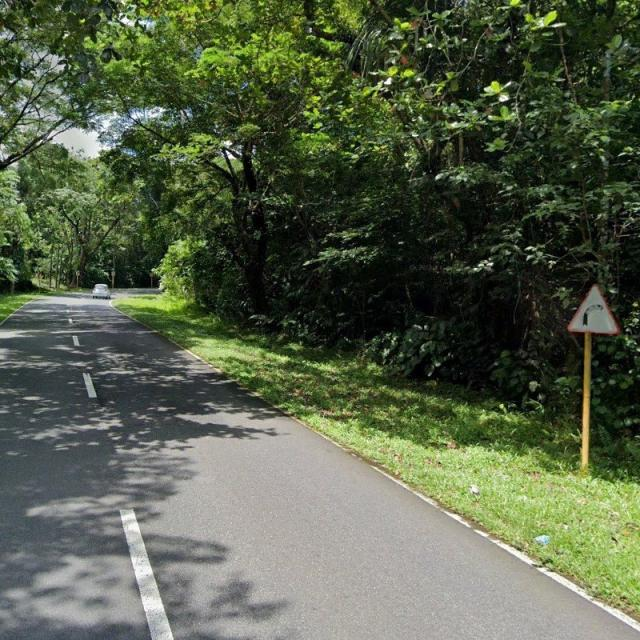warn_right_curve: (566, 284, 619, 334)
